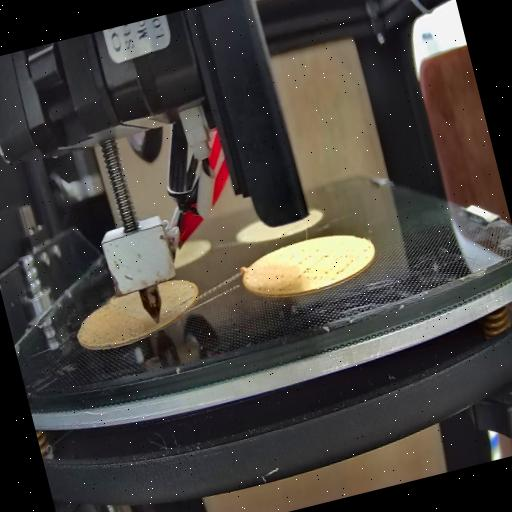under_extrusion: (293, 238, 379, 288), (74, 316, 134, 358), (251, 268, 293, 304), (160, 288, 204, 320)
